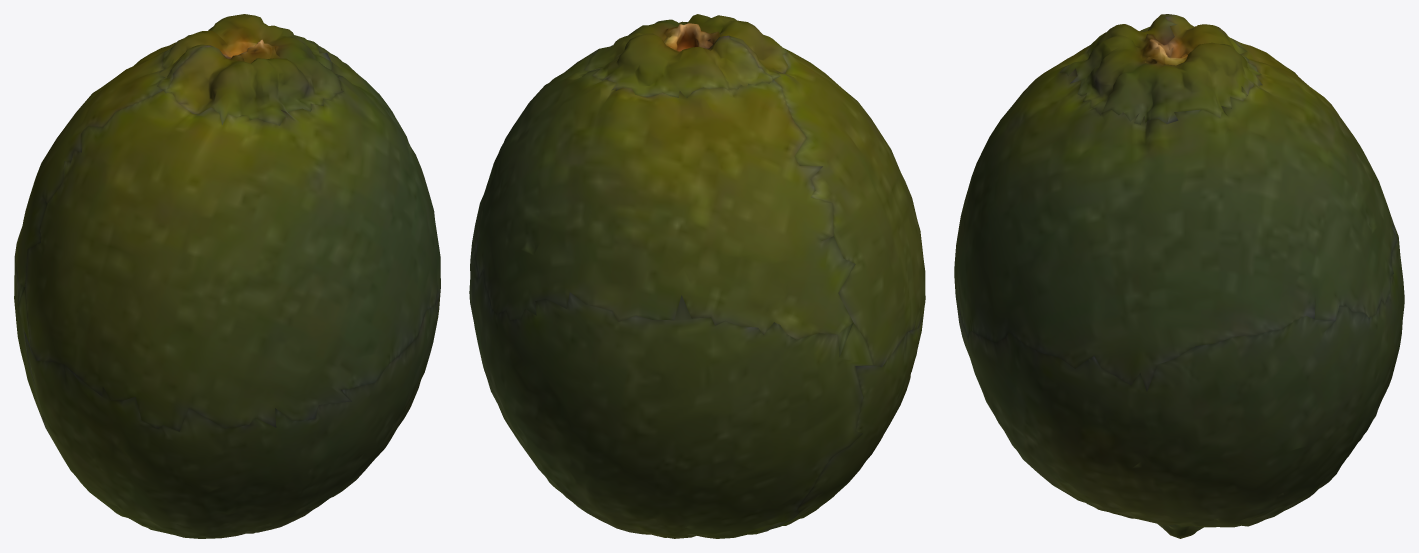
Rendered from food_lime_01.glb.
3 views of the same model, side by side, from view 1: azimuth 30°, elevation 25°; view 2: azimuth 150°, elevation 25°; view 3: azimuth 270°, elevation 25° (orthographic).
Parts seen in each view (by area): view 1: food_lime_01; view 2: food_lime_01; view 3: food_lime_01.
Part boxes in pixels (x1,y1,x2,y2): food_lime_01: (14, 14, 440, 538); food_lime_01: (469, 14, 925, 538); food_lime_01: (954, 14, 1404, 538).
Bounding box in the file's own units: 0.0601 × 0.0754 × 0.0613.
Materials: 1 (1 with a texture image).
